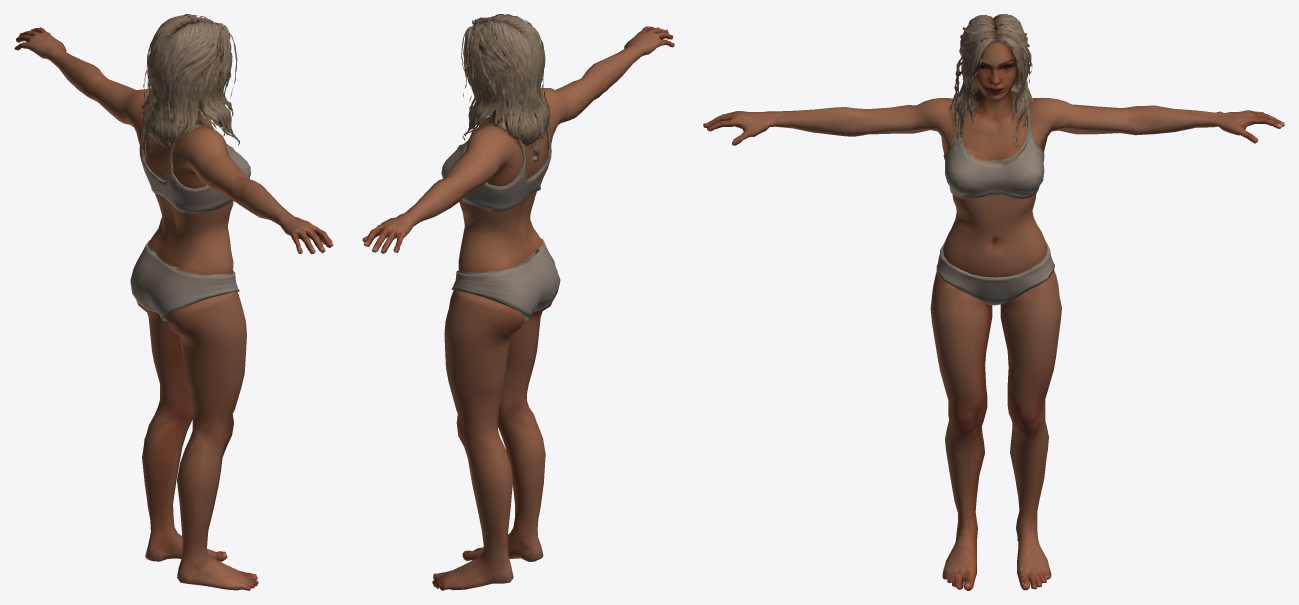
Rendered from player_female.glb.
3 renders of one model, left to right at view 1: azimuth 30°, elevation 25°; view 2: azimuth 150°, elevation 25°; view 3: azimuth 270°, elevation 25°, orthographic. The views are drawn at different scales.
Visible parts, largest first — view 1: PlayerFemale; view 2: PlayerFemale; view 3: PlayerFemale.
Boxes of the visible parts, x1,y1,x2,y2 form: PlayerFemale: [14, 14, 333, 590]; PlayerFemale: [362, 14, 674, 590]; PlayerFemale: [703, 14, 1284, 590].
Size of the model in its own units: 0.3241 by 1.82 by 1.75.
1 material, 1 textured.
